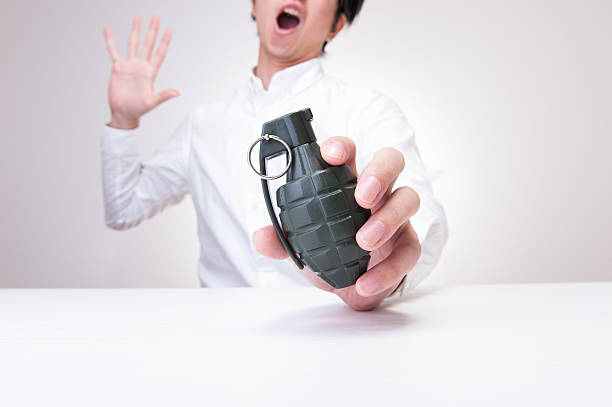e1: (249, 107, 376, 288)
